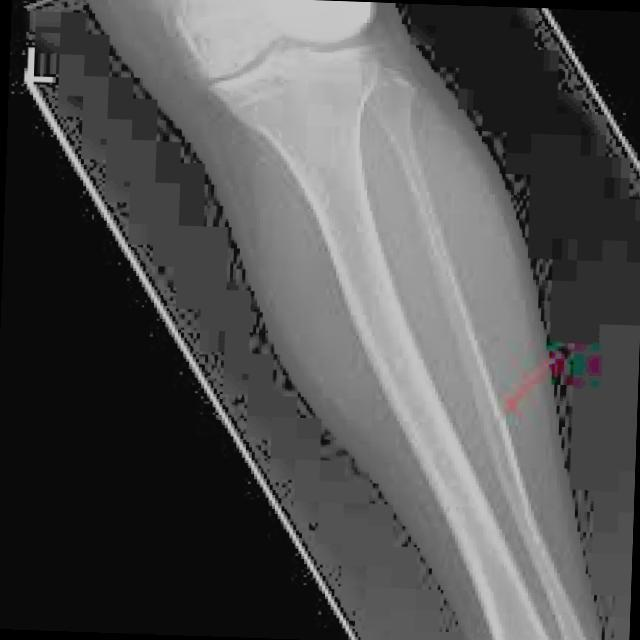Comminuted Fracture: (470, 398, 520, 435)
